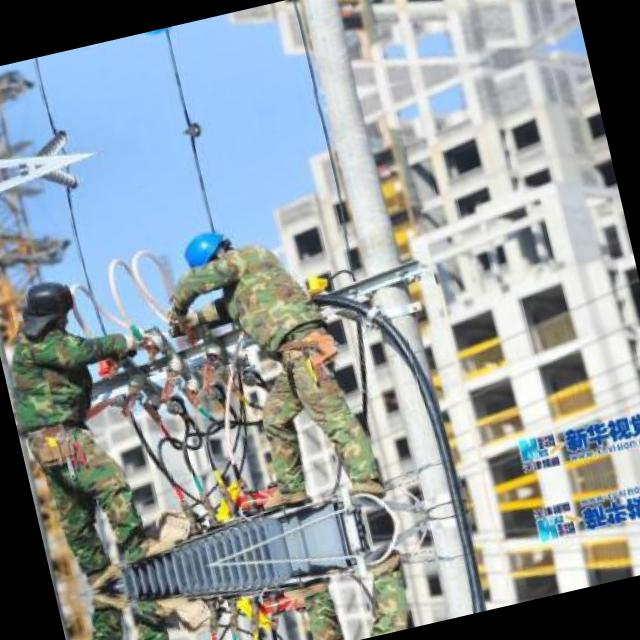helmet: (19, 269, 78, 332), (178, 222, 240, 279), (130, 23, 187, 44)
